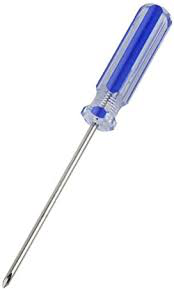screwdriver: (10, 2, 160, 289)
